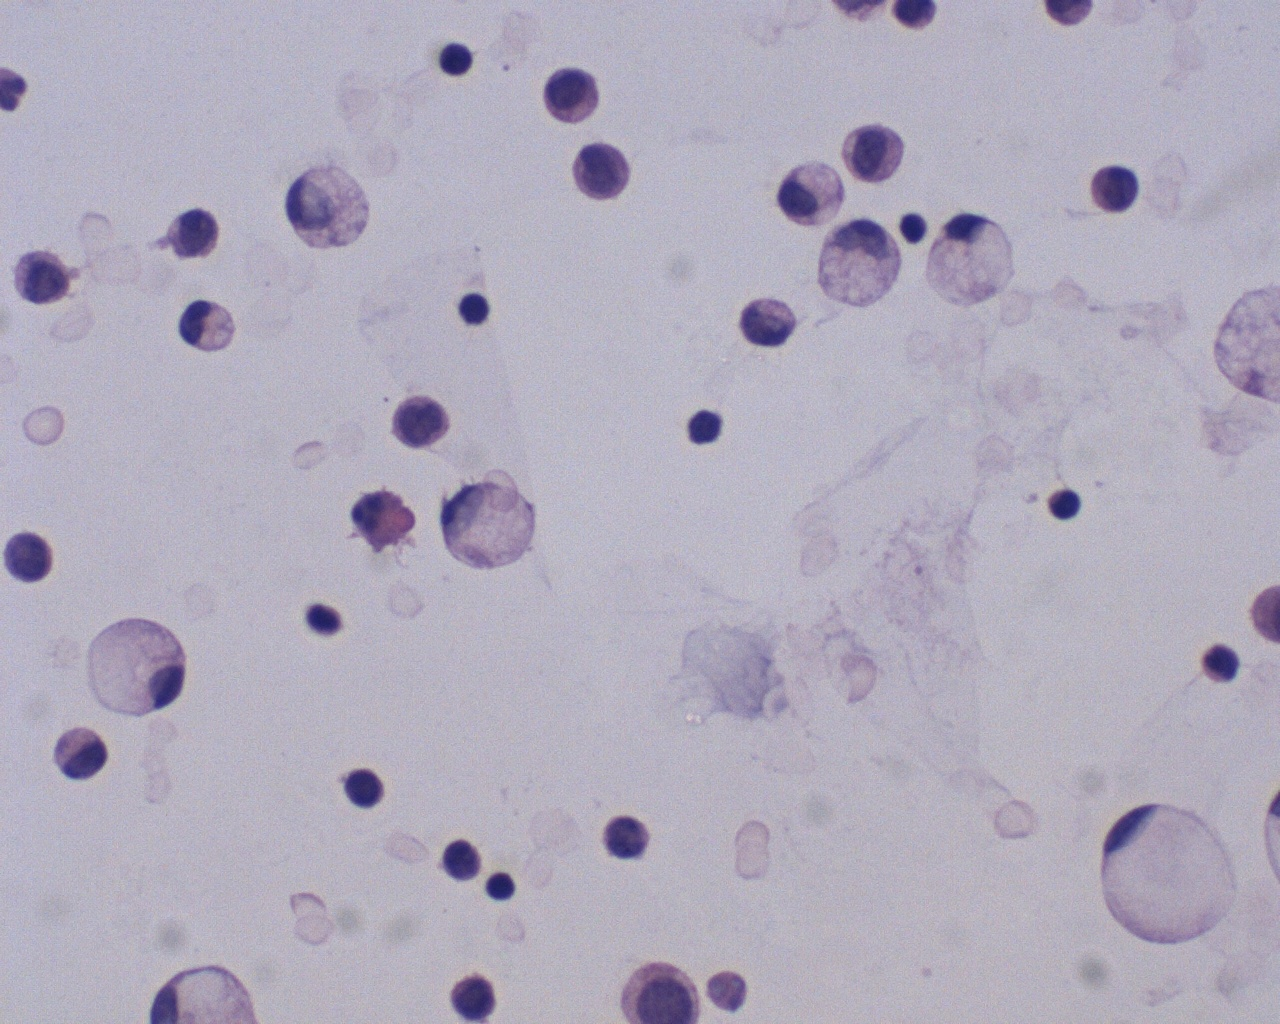ab: (560, 138, 634, 202), (540, 65, 615, 127), (11, 246, 75, 309), (1083, 159, 1150, 218), (157, 200, 225, 259), (5, 520, 57, 587)
histo: (1101, 794, 1242, 956), (82, 600, 200, 723), (920, 205, 1023, 312), (279, 154, 378, 260), (816, 216, 910, 318), (775, 150, 850, 231), (174, 295, 242, 359)
lymph: (437, 37, 479, 83), (1047, 480, 1088, 523), (453, 288, 495, 329), (480, 867, 521, 903), (900, 204, 934, 247)
meso: (41, 719, 117, 790)
